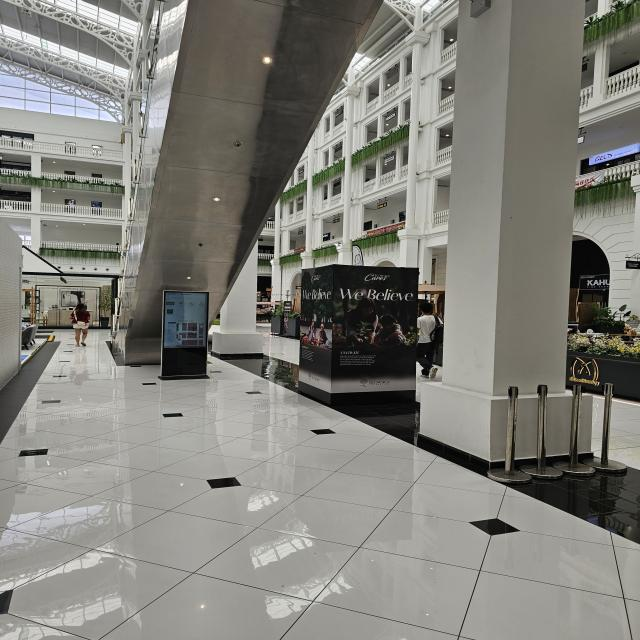footpath: (4, 408, 399, 640)
obstacle: (414, 228, 620, 469), (296, 263, 414, 402), (158, 289, 212, 381)
person: (66, 301, 96, 350)
